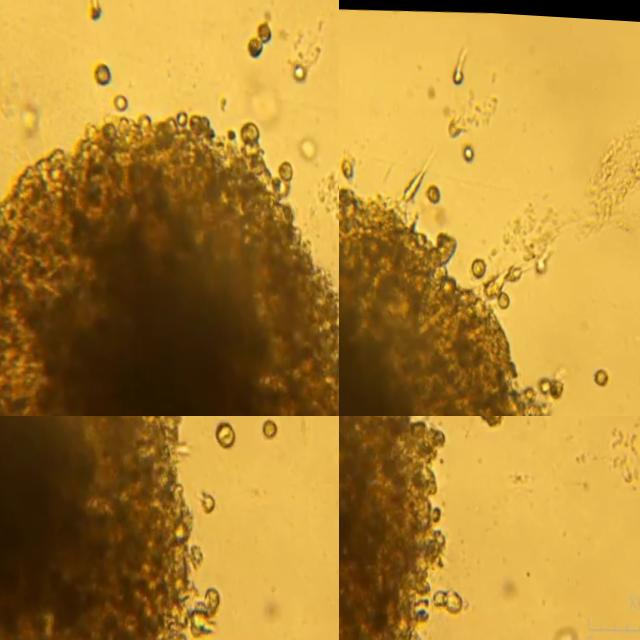cell: (403, 154, 430, 196), (479, 263, 509, 293), (450, 42, 466, 79), (533, 237, 549, 271), (214, 416, 232, 442), (93, 61, 112, 83), (443, 584, 460, 607), (445, 113, 464, 133), (289, 58, 309, 76), (298, 134, 315, 155), (590, 361, 607, 382), (535, 368, 549, 391), (255, 18, 272, 36), (199, 488, 213, 509), (503, 260, 520, 277), (430, 587, 448, 603), (339, 154, 352, 176), (246, 33, 261, 51), (469, 252, 484, 270), (424, 181, 440, 197), (260, 416, 275, 432), (497, 286, 509, 305), (88, 0, 100, 18), (110, 93, 127, 105), (548, 374, 560, 390), (460, 142, 472, 157)
tumor_mass: (0, 107, 339, 416), (339, 185, 549, 416), (339, 416, 445, 640)
